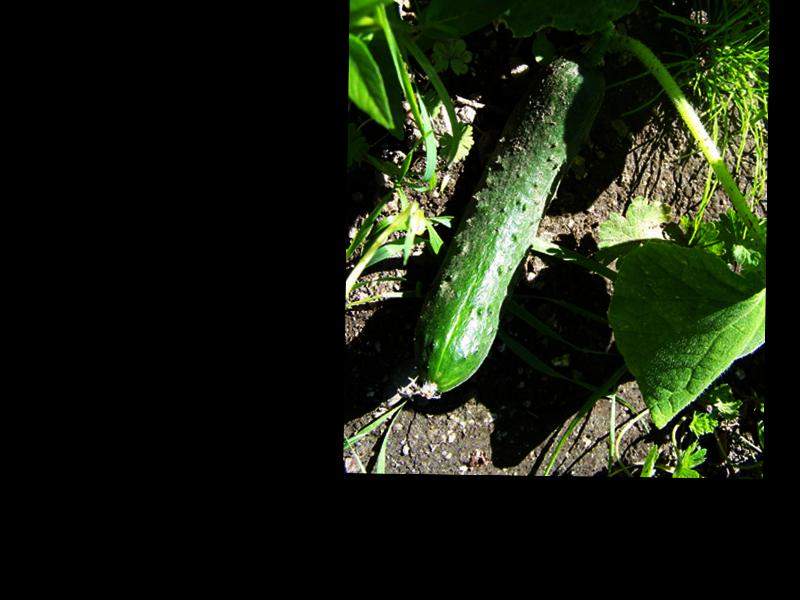Cucumber: (412, 49, 607, 400)
